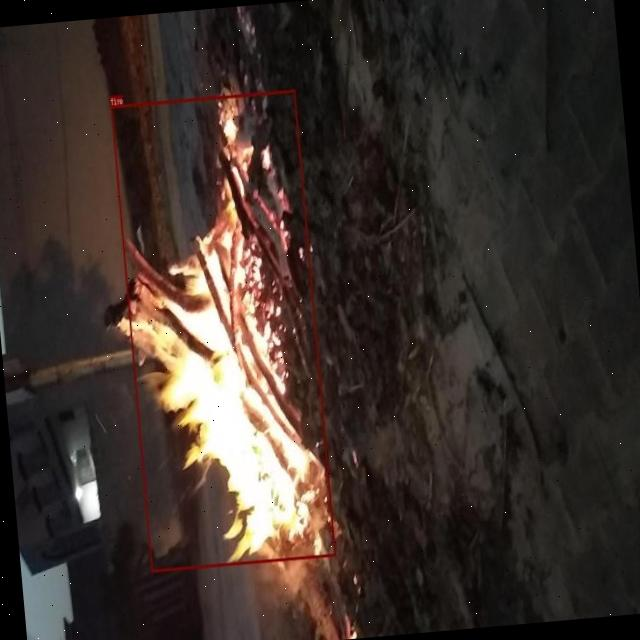fire: (110, 89, 336, 572)
